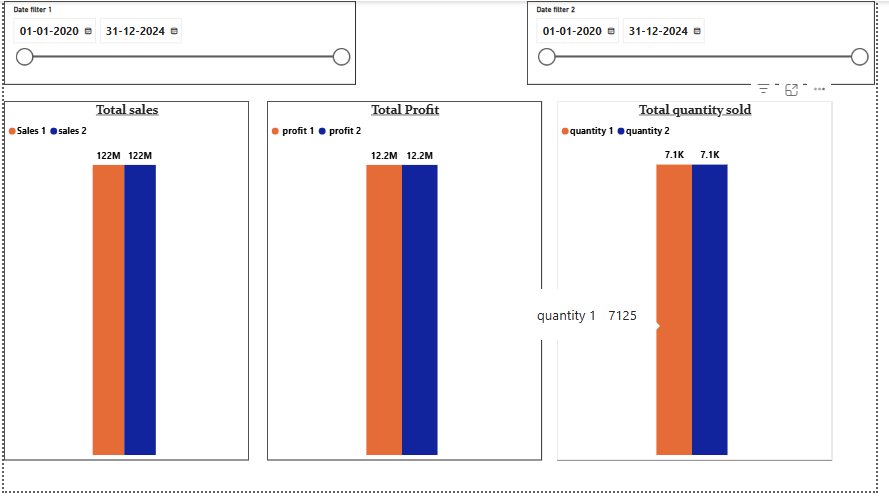

Layout of this report page (visuals, bound fields, positions):
{"tool":"powerbi","page":{"name":"compare sales/profit and quantity sold","canvas":[1280,720],"ordinal":2},"visuals":[{"type":"slicer","fields":{"Values":["date table 1.Date"]},"box":[0,0,517.2,123.4],"z":0},{"type":"slicer","fields":{"Values":["date table 2.Date"]},"box":[768.5,0,511.3,123.4],"z":1000},{"type":"clusteredColumnChart","title":"Total sales","fields":{"Y":["Sum(fact table.net sales)","date table 1.sum of net sales"]},"box":[0,146.9,360,527.5],"z":2000},{"type":"clusteredColumnChart","title":"Total Profit","fields":{"Y":["Sum(fact table.profit)","Measure Table.total profit"]},"box":[386.4,146.9,404.1,527.5],"z":3000},{"type":"clusteredColumnChart","title":"Total quantity sold","fields":{"Y":["Sum(fact table.Units Sold)","Measure Table.quantity sold"]},"box":[812.6,146.9,404.1,527.5],"z":4000}]}

Visuals, with their boxes in screenshot pixels (x1, y1, x2, y2), scaled from the page's 1280x720 canvas onto the 889x497 screenshot:
slicer - date table 1.Date: locate(0, 0, 359, 85)
slicer - date table 2.Date: locate(534, 0, 888, 85)
"Total sales" clusteredColumnChart: locate(0, 101, 250, 466)
"Total Profit" clusteredColumnChart: locate(268, 101, 549, 466)
"Total quantity sold" clusteredColumnChart: locate(564, 101, 845, 466)
